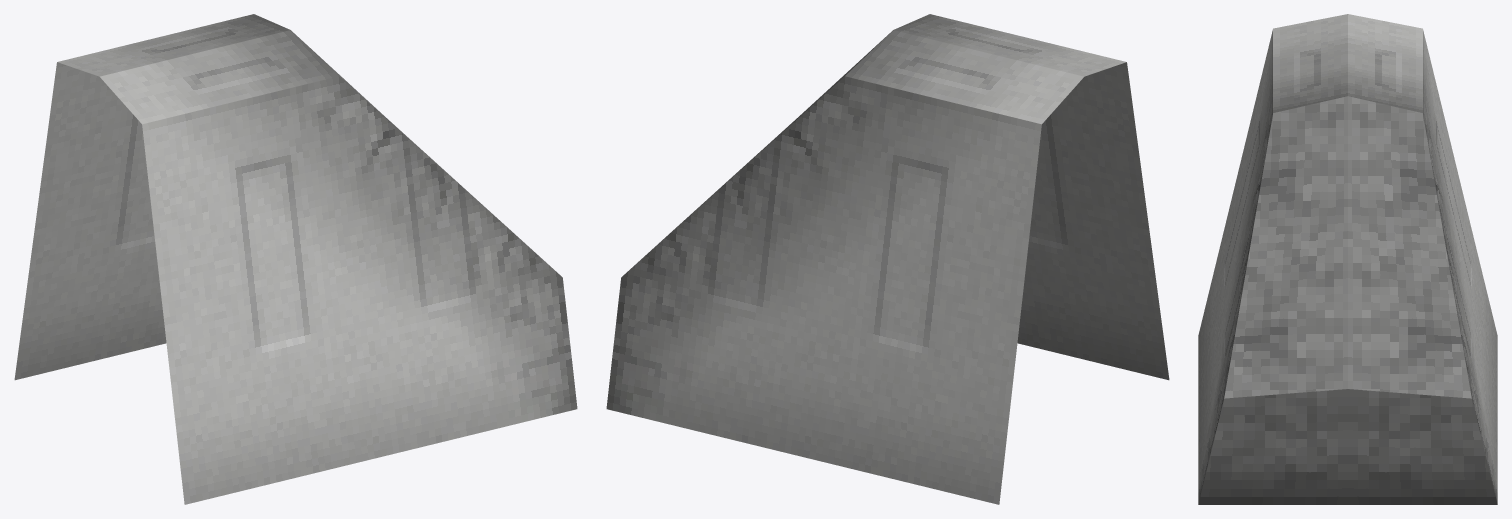
Rendered from walldamaged.fbx.
3 views of the same model, side by side, from view 1: azimuth 30°, elevation 25°; view 2: azimuth 150°, elevation 25°; view 3: azimuth 270°, elevation 25° (orthographic). The views are drawn at different scales.
Visible parts, largest first — view 1: pWall2; view 2: pWall2; view 3: pWall2.
Part boxes in pixels (x1,y1,x2,y2): pWall2: [14, 14, 577, 504]; pWall2: [606, 14, 1169, 504]; pWall2: [1198, 14, 1497, 504].
Size of the model in its own units: 4 by 3.56 by 3.
Materials: 1 (1 with a texture image).
